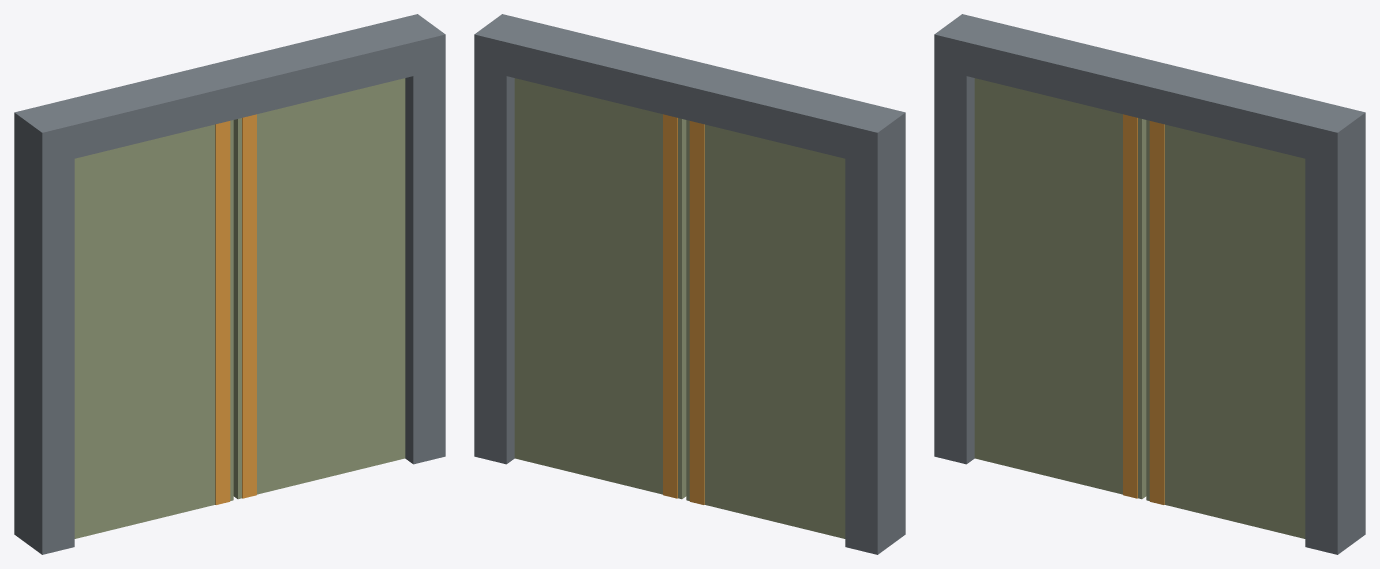
Rendered from mech-hangar-and-battle-frames-blast-door-29a79e87__26935.glb.
3 renders of one model, left to right at view 1: azimuth 30°, elevation 25°; view 2: azimuth 150°, elevation 25°; view 3: azimuth 330°, elevation 25°, orthographic.
Visible parts, largest first — view 1: blast-door; view 2: blast-door; view 3: blast-door.
Boxes of the visible parts, x1,y1,x2,y2 form: blast-door: (14,14,445,554); blast-door: (474,14,905,554); blast-door: (934,14,1365,554).
Size of the model in its own units: 5 by 5 by 0.6.
